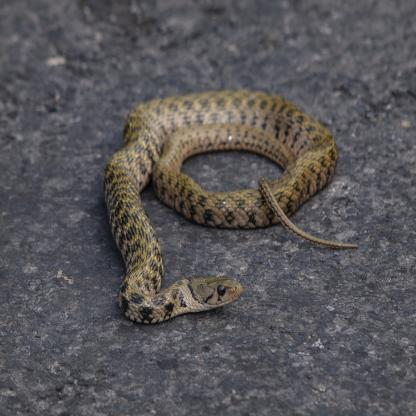Snake: (105, 84, 337, 328)
